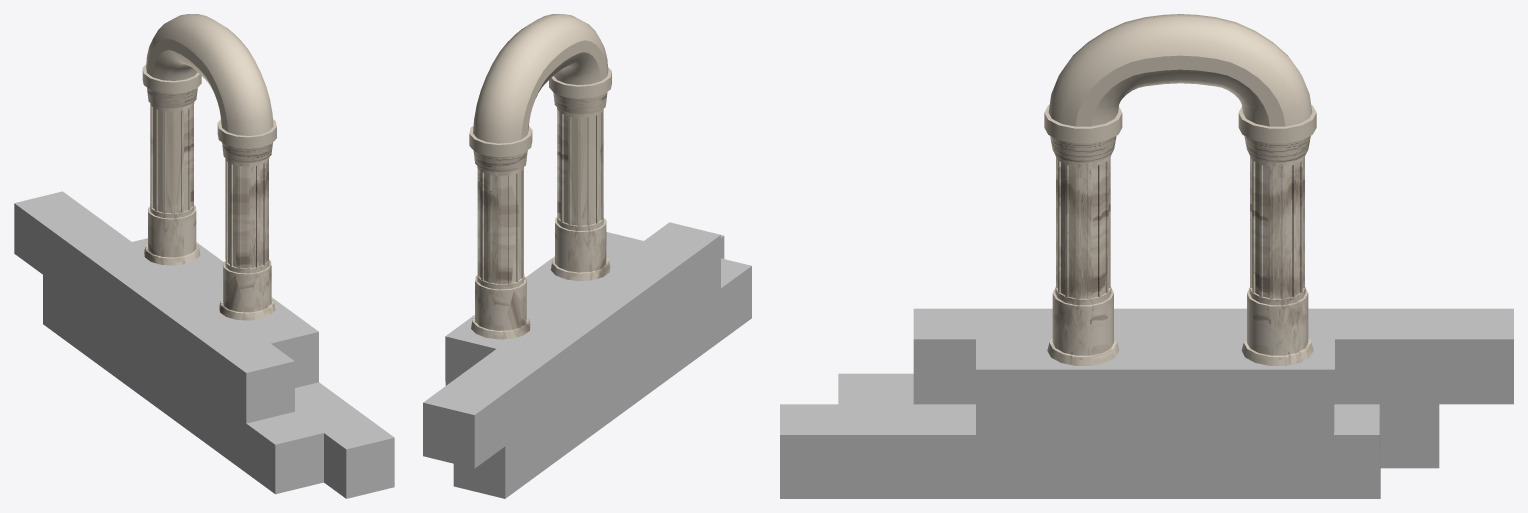
The model's file is ruina_duza_2.obj.
3 views of the same model, side by side, from view 1: azimuth 30°, elevation 25°; view 2: azimuth 150°, elevation 25°; view 3: azimuth 270°, elevation 25° (orthographic). The views are drawn at different scales.
Parts seen in each view (by area): view 1: Cube.039; view 2: Cube.039; view 3: Cube.039.
Boxes of the visible parts, x1=… form: Cube.039: x1=14, y1=14, x2=394, y2=498; Cube.039: x1=423, y1=14, x2=751, y2=498; Cube.039: x1=780, y1=14, x2=1513, y2=498.
Bounding box in the file's own units: 12.25 × 43.23 × 62.13.
Materials: 2 (1 with a texture image).
